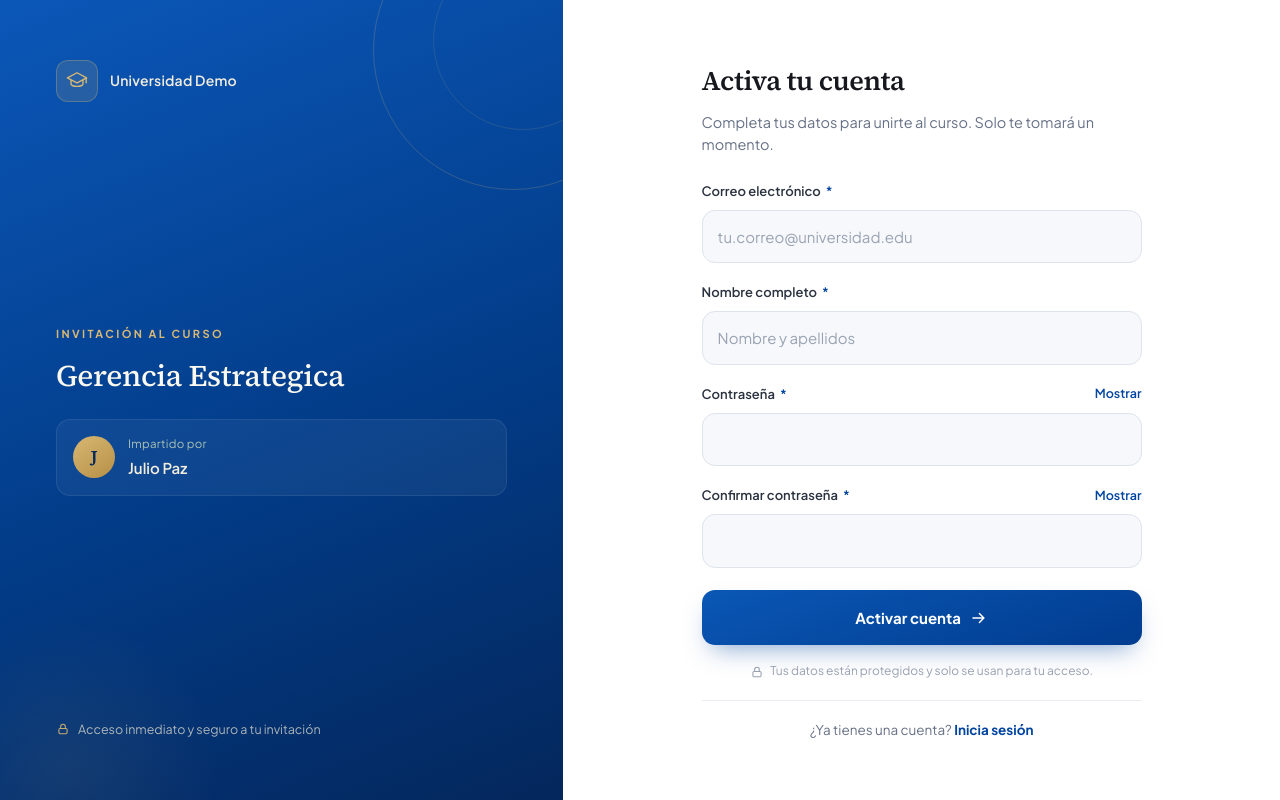
Scenario: StudentJoinPage › auto-switches the course access flow to in-place sign-in when the email already has an account
The image size is (1280, 800).
Expected: the button "Activar cuenta" is shown, [702,590,1142,646]
In the field with placeholder "tu.correo@universidad.edu": (922, 236) [702,210,1142,263], type "student@universidad.edu"
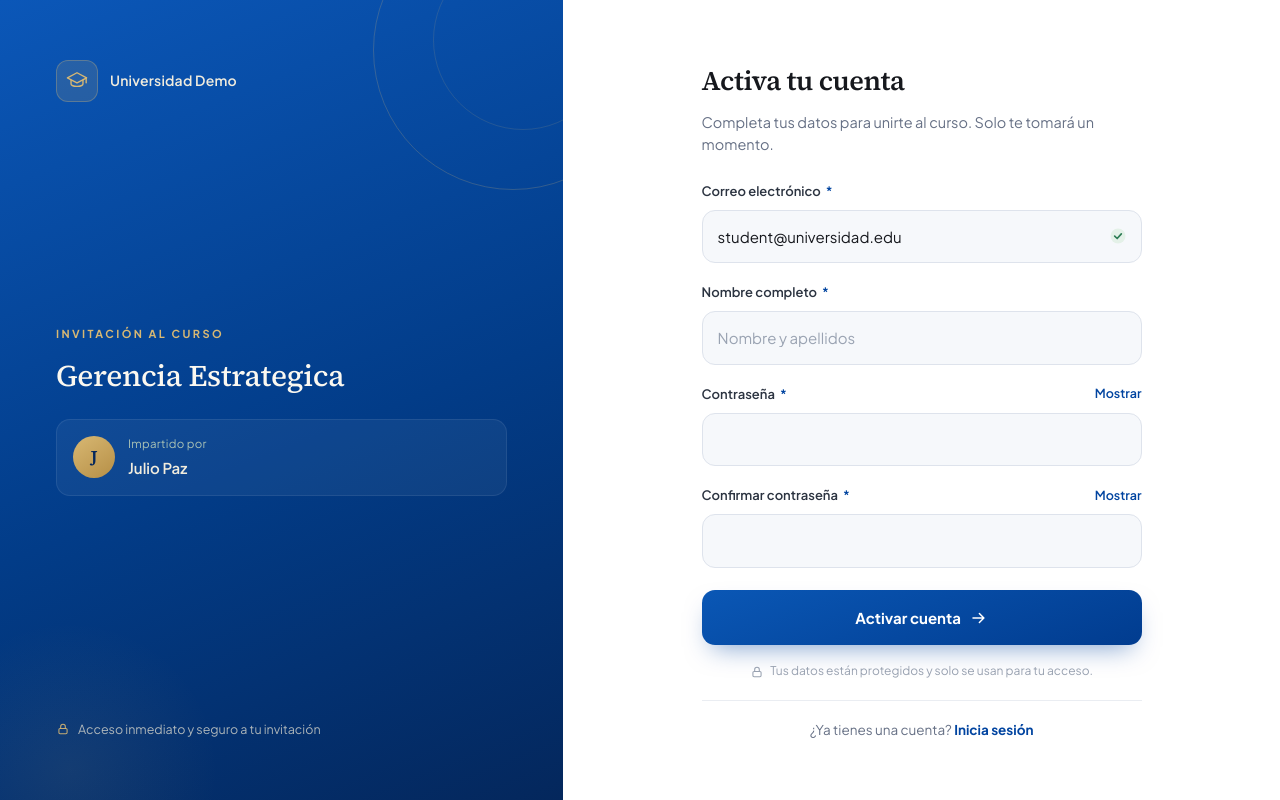
In the field with placeholder "Nombre y apellidos": (922, 338) [702,311,1142,365], type "Estudiante Test"
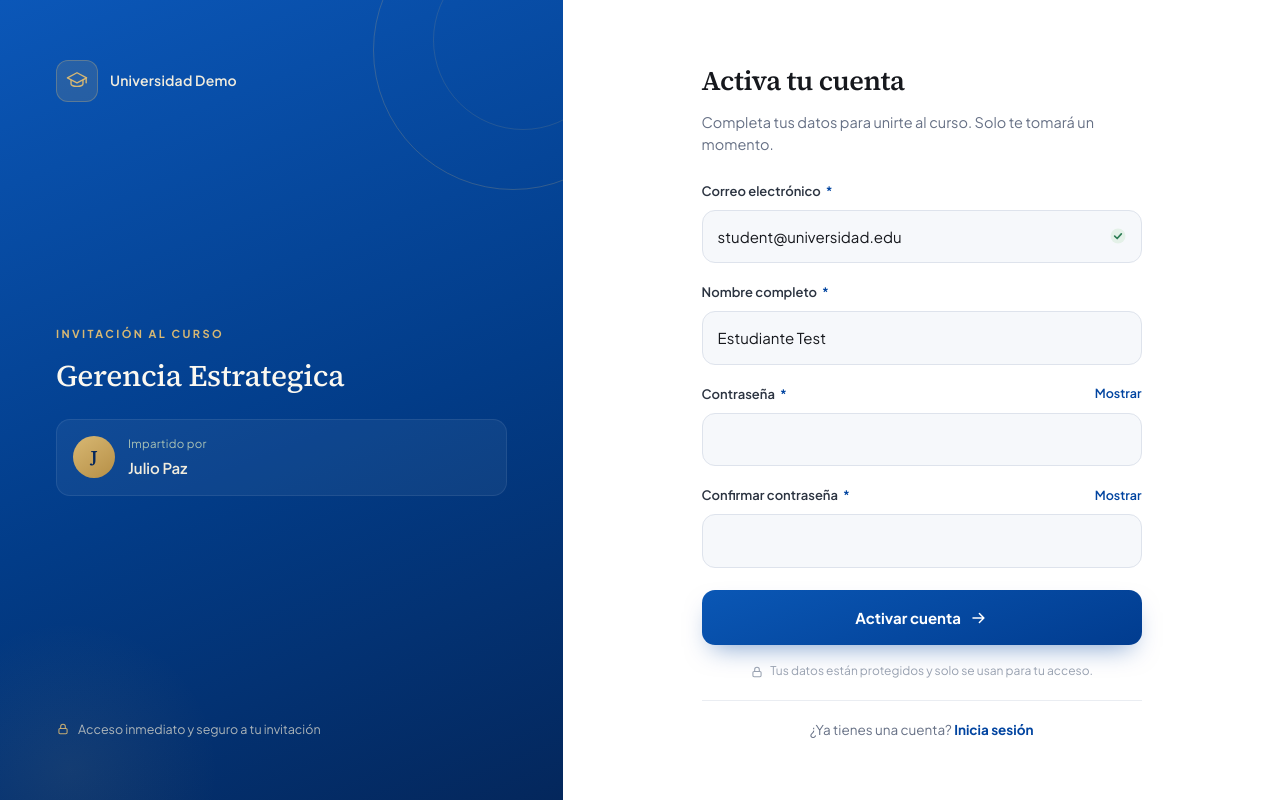
In the password field labelled "Contraseña *": (922, 440) [702,413,1142,466], type "Password123!"
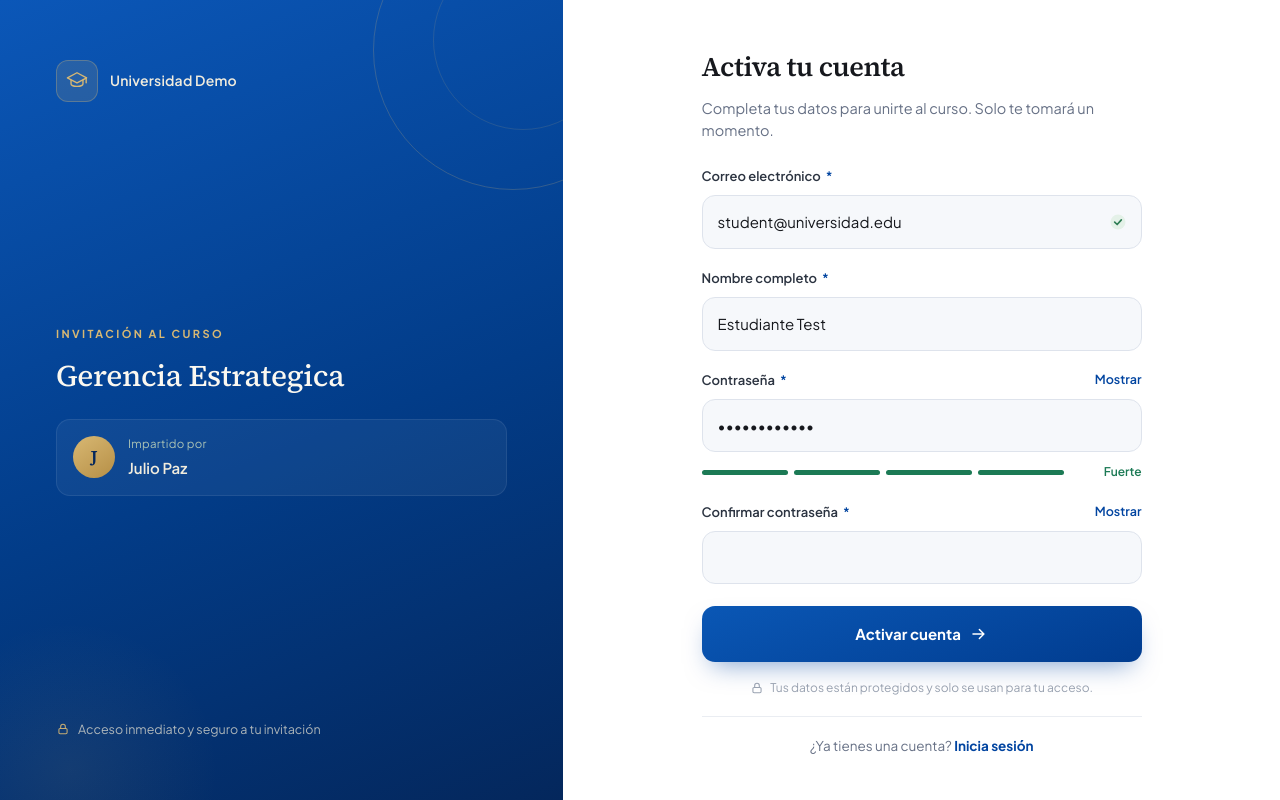
In the password field labelled "Confirmar contraseña *": (922, 557) [702,531,1142,584], type "Password123!"
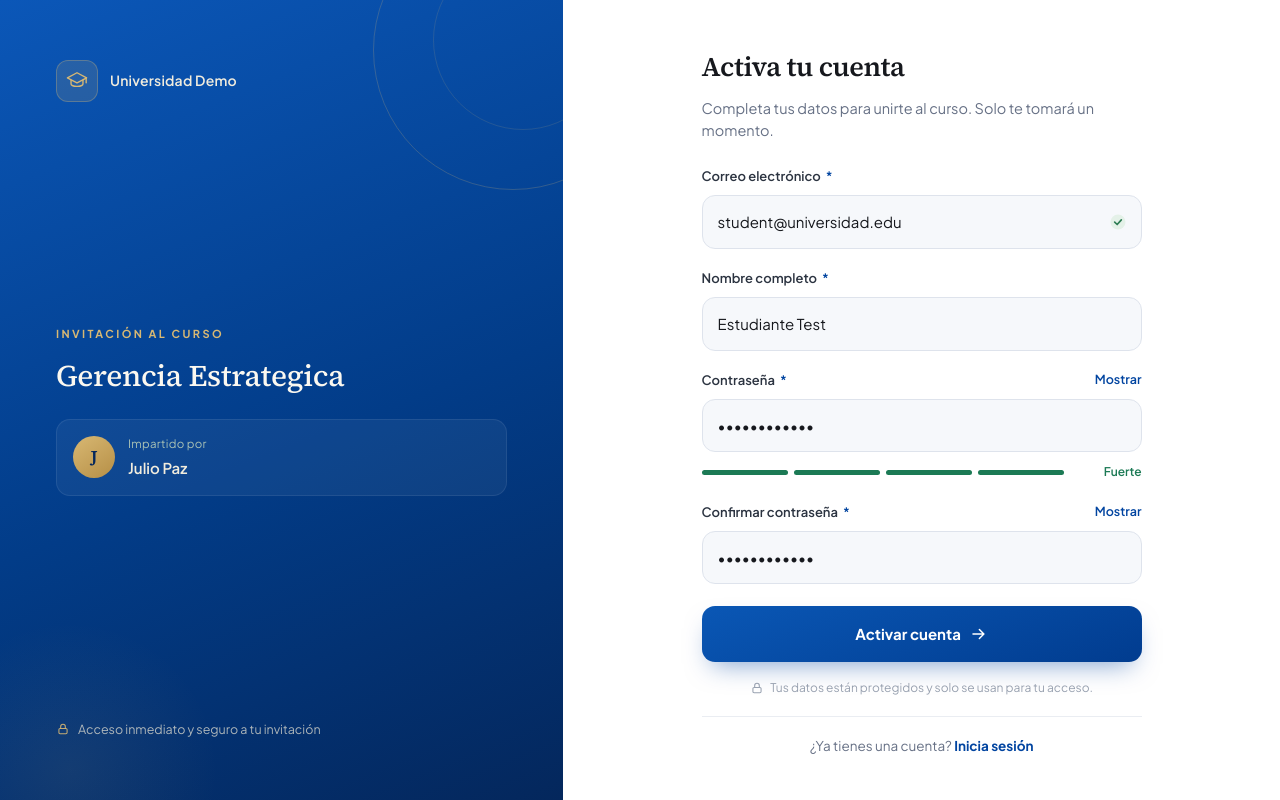
Submit the form, box [702,267,1142,698]
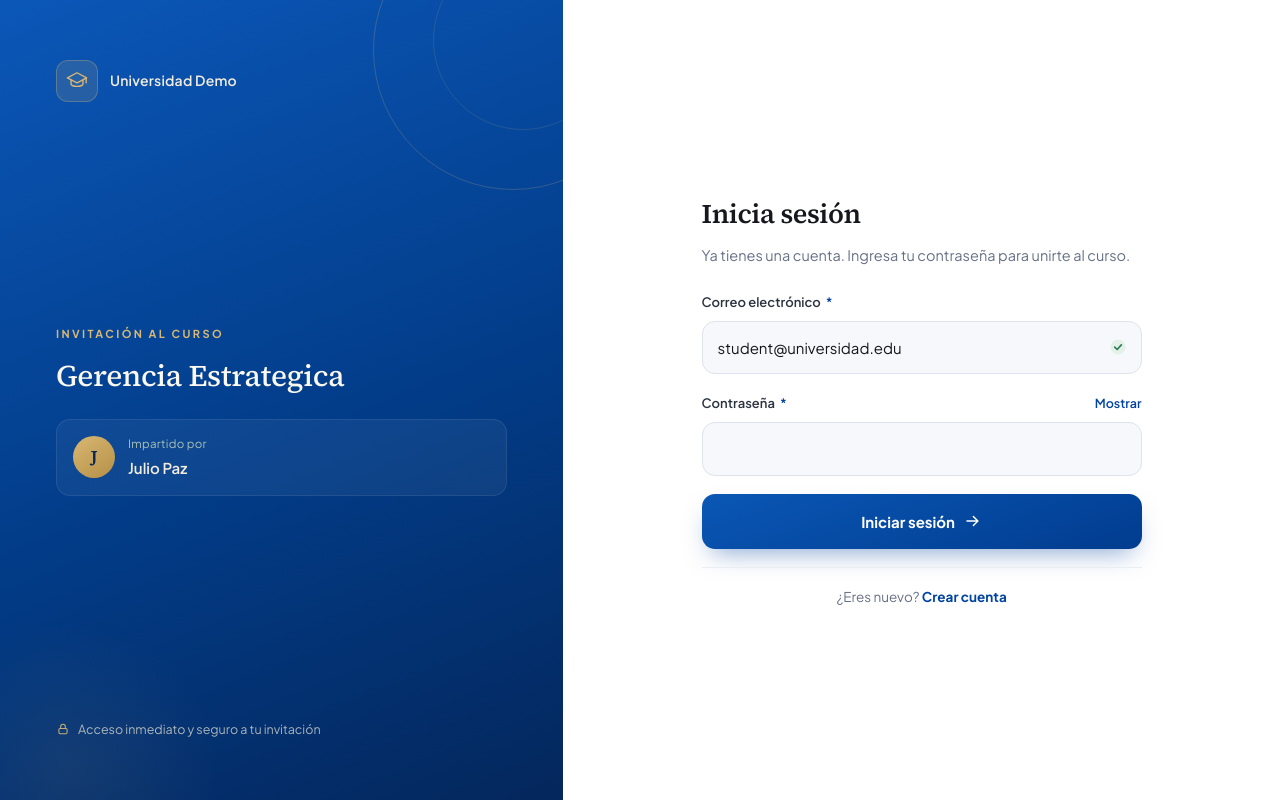
Expected: the text "Ya tienes una cuenta. Ingresa tu contraseña para unirte" is shown, [702,246,1130,264]
Expected: the button "Iniciar sesión" is shown, [702,494,1142,549]
Expected: the text "Nombre completo" is gone
